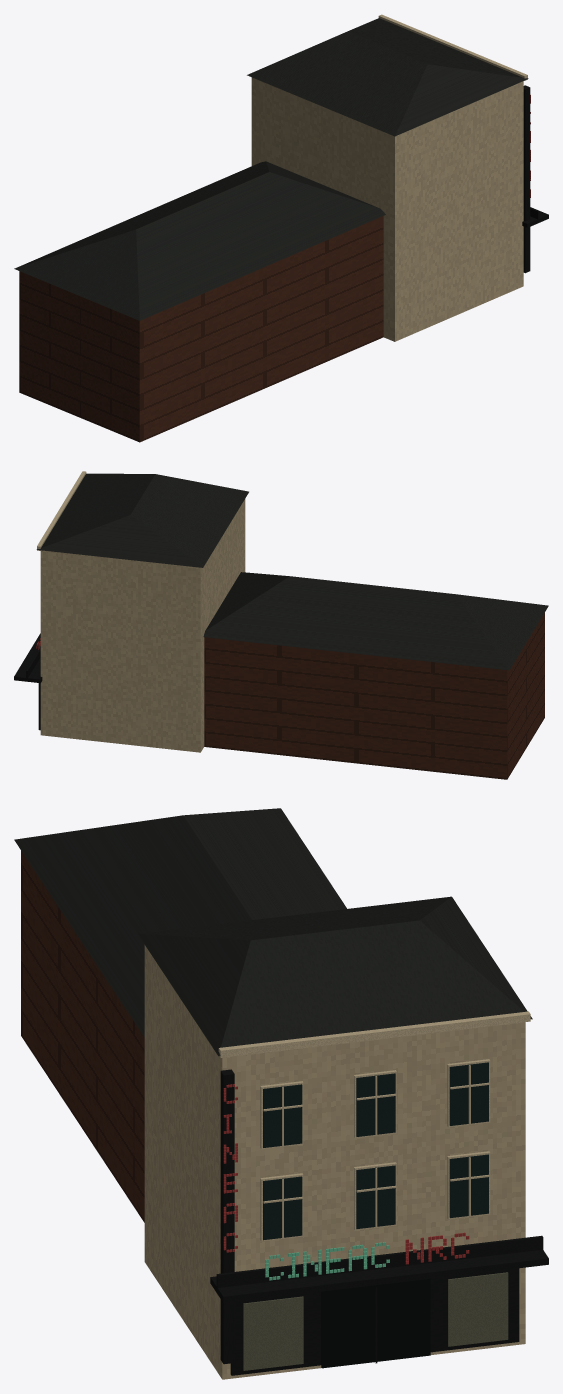
The picture shows the model from 3 angles, top to bottom: view 1: azimuth 30°, elevation 25°; view 2: azimuth 150°, elevation 25°; view 3: azimuth 270°, elevation 25°; orthographic projection. The views are drawn at different scales.
Visible parts, largest first — view 1: cineac-coolsingel-vooroorlogs-6, cineac-coolsingel-vooroorlogs-1, cineac-coolsingel-vooroorlogs-0, cineac-coolsingel-vooroorlogs-3, cineac-coolsingel-vooroorlogs-2; view 2: cineac-coolsingel-vooroorlogs-6, cineac-coolsingel-vooroorlogs-1, cineac-coolsingel-vooroorlogs-0, cineac-coolsingel-vooroorlogs-3, cineac-coolsingel-vooroorlogs-2; view 3: cineac-coolsingel-vooroorlogs-0, cineac-coolsingel-vooroorlogs-1, cineac-coolsingel-vooroorlogs-6, cineac-coolsingel-vooroorlogs-3, cineac-coolsingel-vooroorlogs-7, cineac-coolsingel-vooroorlogs-5, cineac-coolsingel-vooroorlogs-4, cineac-coolsingel-vooroorlogs-2, cineac-coolsingel-vooroorlogs-9, cineac-coolsingel-vooroorlogs-8.
Part boxes in pixels (x1,y1,x2,y2): cineac-coolsingel-vooroorlogs-6: (19,216,383,442); cineac-coolsingel-vooroorlogs-1: (14,18,528,320); cineac-coolsingel-vooroorlogs-0: (251,77,523,341); cineac-coolsingel-vooroorlogs-3: (522,85,548,273); cineac-coolsingel-vooroorlogs-2: (378,14,527,80); cineac-coolsingel-vooroorlogs-6: (204,613,544,779); cineac-coolsingel-vooroorlogs-1: (36,473,548,670); cineac-coolsingel-vooroorlogs-0: (40,499,245,752); cineac-coolsingel-vooroorlogs-3: (14,633,42,730); cineac-coolsingel-vooroorlogs-2: (37,471,86,550); cineac-coolsingel-vooroorlogs-0: (144,945,525,1379); cineac-coolsingel-vooroorlogs-1: (14,808,532,1056); cineac-coolsingel-vooroorlogs-6: (21,851,144,1222); cineac-coolsingel-vooroorlogs-3: (210,1069,548,1375); cineac-coolsingel-vooroorlogs-7: (263,1062,488,1240); cineac-coolsingel-vooroorlogs-5: (321,1278,430,1368); cineac-coolsingel-vooroorlogs-4: (243,1272,508,1370); cineac-coolsingel-vooroorlogs-2: (218,1011,530,1241); cineac-coolsingel-vooroorlogs-9: (223,1084,469,1264); cineac-coolsingel-vooroorlogs-8: (265,1242,389,1280).
Bounding box in the file's own units: 40.64 × 17.8 × 23.17.
Materials: 10 (10 with a texture image).
